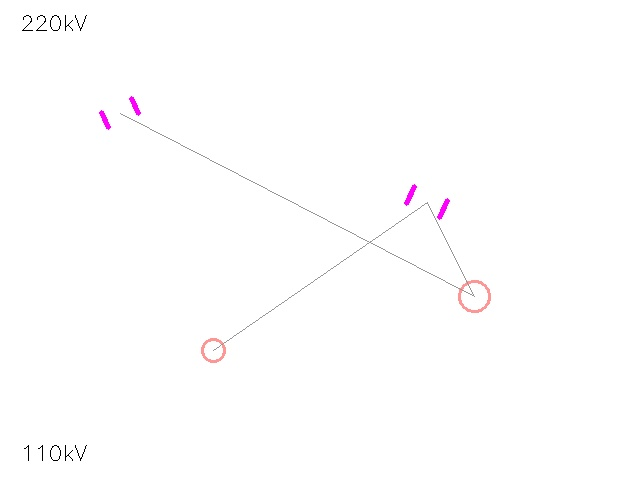capacitor: (397, 172, 457, 232), (92, 85, 148, 141)
feeder_terminal: (190, 327, 236, 373)
reactor: (444, 266, 504, 326)
